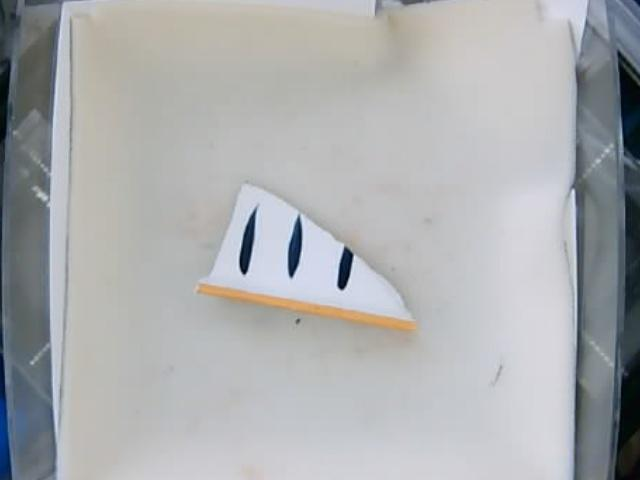China: (195, 181, 423, 332)
